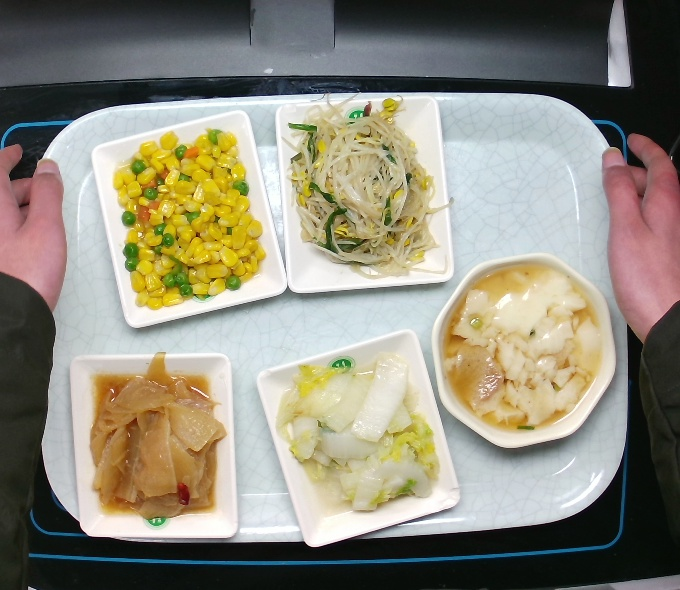wcq-DaBaiCai: (273, 353, 446, 516)
wcq-DongGua: (87, 348, 230, 524)
wcq-DouYa: (280, 87, 457, 285)
wcq-ShuiZhengDan: (440, 260, 607, 435)
wcq-TianMiTianDou: (110, 123, 270, 314)
